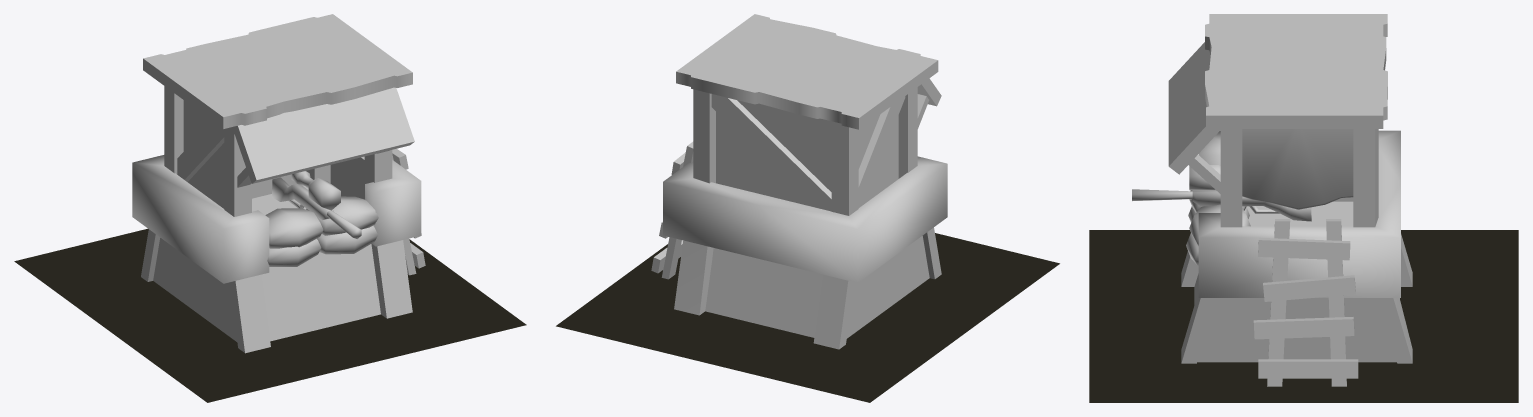
The model's file is Fortress_02.FBX.
3 renders of one model, left to right at view 1: azimuth 30°, elevation 25°; view 2: azimuth 150°, elevation 25°; view 3: azimuth 270°, elevation 25°, orthographic. The views are drawn at different scales.
Visible parts, largest first — view 1: Box014, Plane031; view 2: Box014, Plane031; view 3: Box014, Plane031.
Boxes of the visible parts, x1,y1,x2,y2 form: Box014: (132, 14, 425, 353); Plane031: (14, 228, 526, 402); Box014: (651, 14, 947, 349); Plane031: (556, 233, 1059, 402); Box014: (1132, 14, 1412, 386); Plane031: (1089, 230, 1518, 402).
Size of the model in its own units: 496 by 345 by 520.
